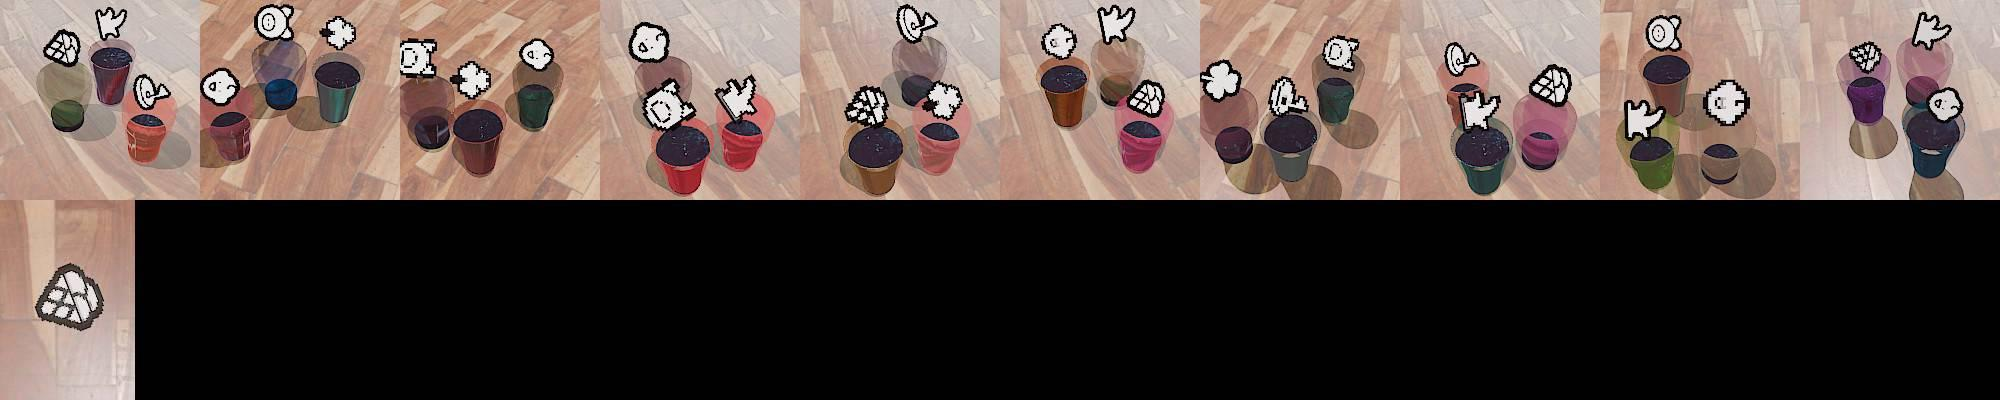icon: (33, 264, 106, 332), (642, 78, 695, 131), (1702, 78, 1751, 126), (713, 74, 760, 122), (844, 84, 889, 130), (1268, 74, 1311, 118), (920, 79, 963, 122), (1528, 64, 1571, 107), (1458, 89, 1501, 131), (628, 22, 671, 64), (1625, 96, 1666, 140), (897, 4, 939, 45), (200, 68, 242, 108), (1096, 4, 1136, 45), (398, 38, 437, 79), (1913, 11, 1953, 52), (254, 3, 295, 42), (1126, 78, 1166, 117), (452, 61, 492, 99), (1202, 59, 1239, 101), (133, 73, 172, 111), (1645, 14, 1684, 54), (1041, 22, 1077, 60), (1320, 34, 1358, 70), (43, 29, 80, 65), (1926, 87, 1962, 124), (321, 15, 356, 51), (1445, 43, 1481, 78), (519, 38, 554, 71), (94, 6, 126, 41), (1848, 42, 1883, 73)
